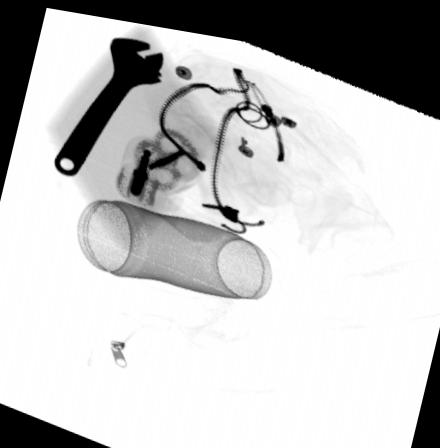Wrench: (53, 31, 164, 174)
